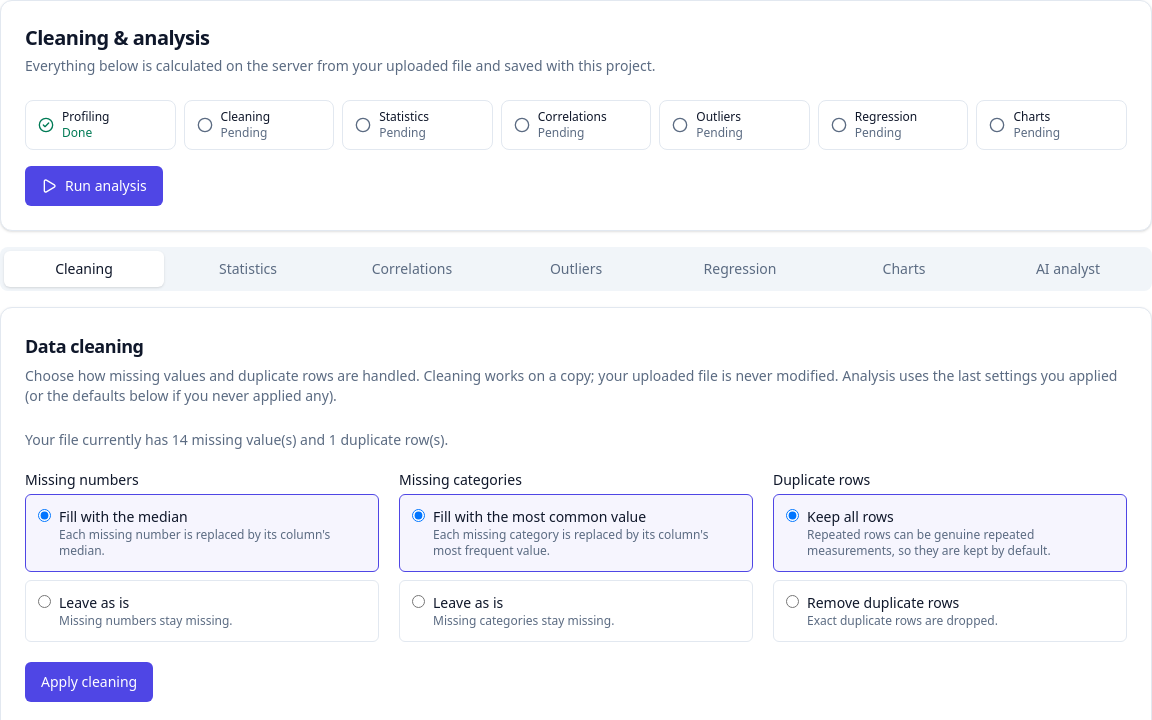
Test case: AnalysisWorkspace — before any run › explains that regression needs a completed analysis
Click the tab "Regression": (740, 269) [660,251,820,287]
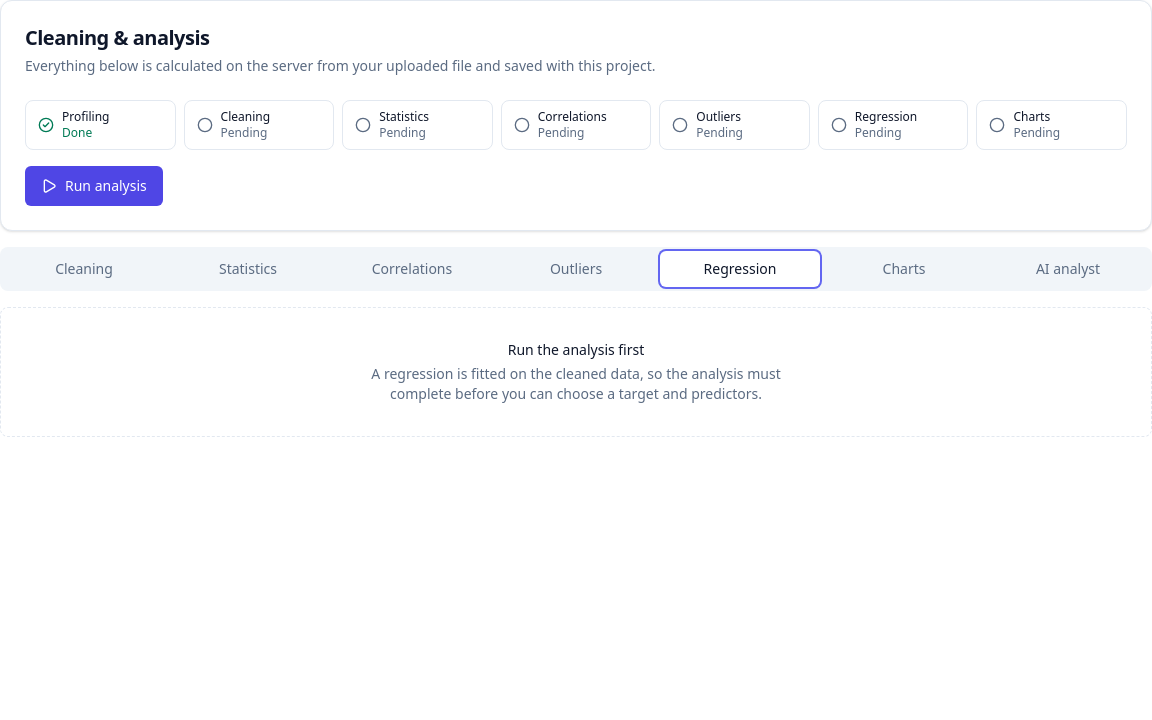
Now the text "Run the analysis first" is shown, box [508,340,644,360]
